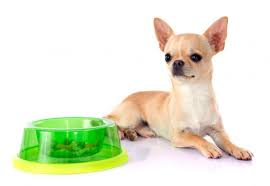chihuahua: (93, 8, 256, 168)
